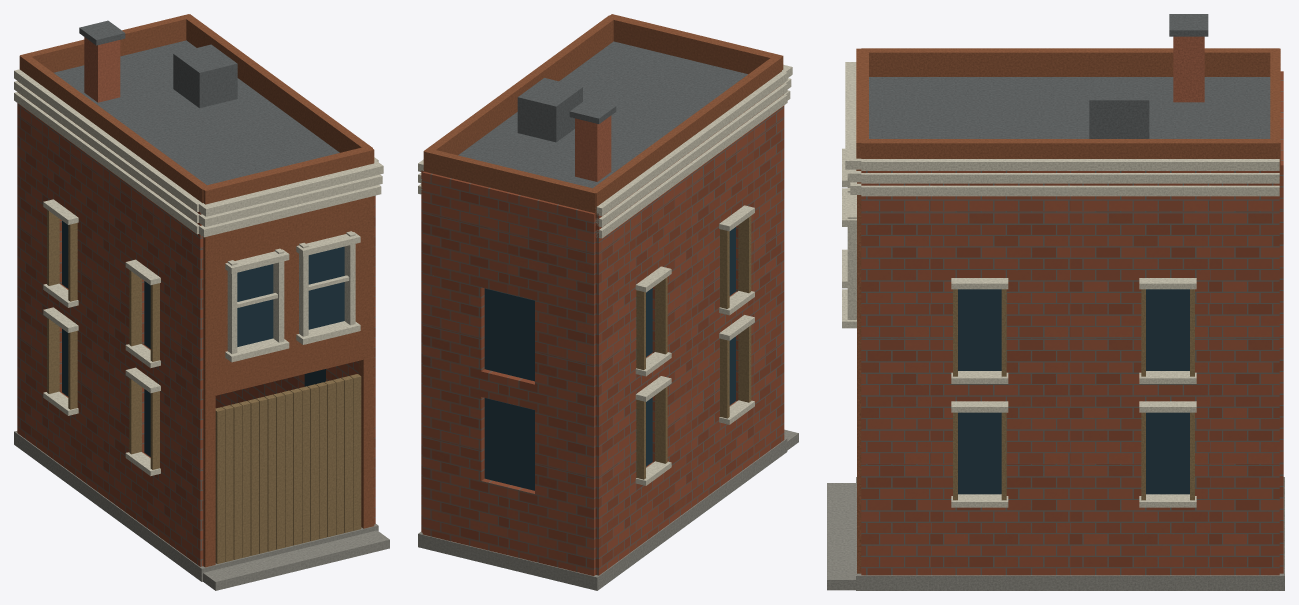
File: CLSTGA20_lod2.glb
3 renders of one model, left to right at view 1: azimuth 30°, elevation 25°; view 2: azimuth 150°, elevation 25°; view 3: azimuth 270°, elevation 25°, orthographic. The views are drawn at different scales.
Parts seen in each view (by area): view 1: CLSTGA20_LOD2; view 2: CLSTGA20_LOD2; view 3: CLSTGA20_LOD2.
Boxes of the visible parts, x1,y1,x2,y2 form: CLSTGA20_LOD2: [14, 14, 389, 590]; CLSTGA20_LOD2: [418, 14, 798, 590]; CLSTGA20_LOD2: [827, 14, 1284, 590].
Bounding box in the file's own units: 3.71 × 7.85 × 6.57.
9 materials, 7 textured.
